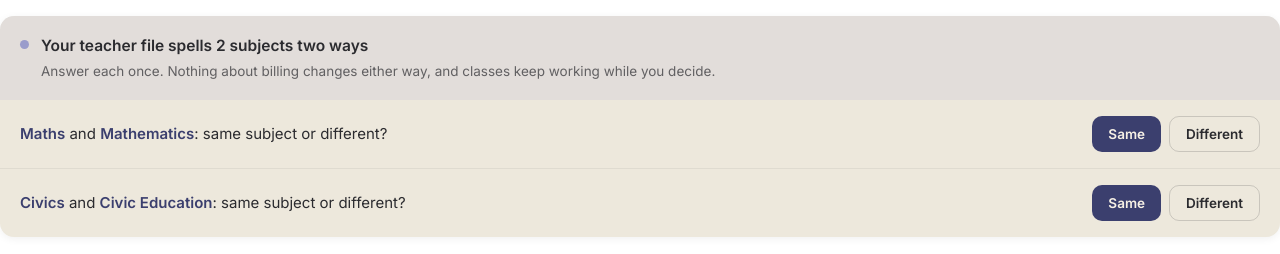
subject spellings › says a pair someone else answered first is done
Expected: the heading "Your teacher file spells 2 subjects two ways" is shown, [41,36,368,55]
Click the button "Same" in the row of "Maths" at (1127, 134), box [1092,116,1161,152]
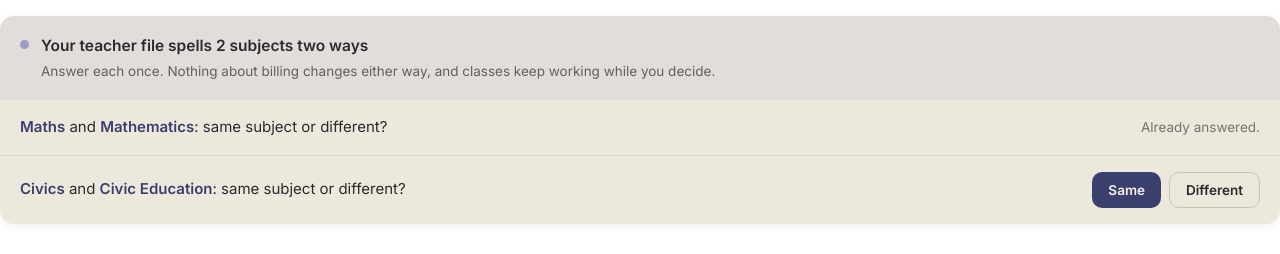
Expected: the text "Already answered." is shown, [1141,117,1260,138]
